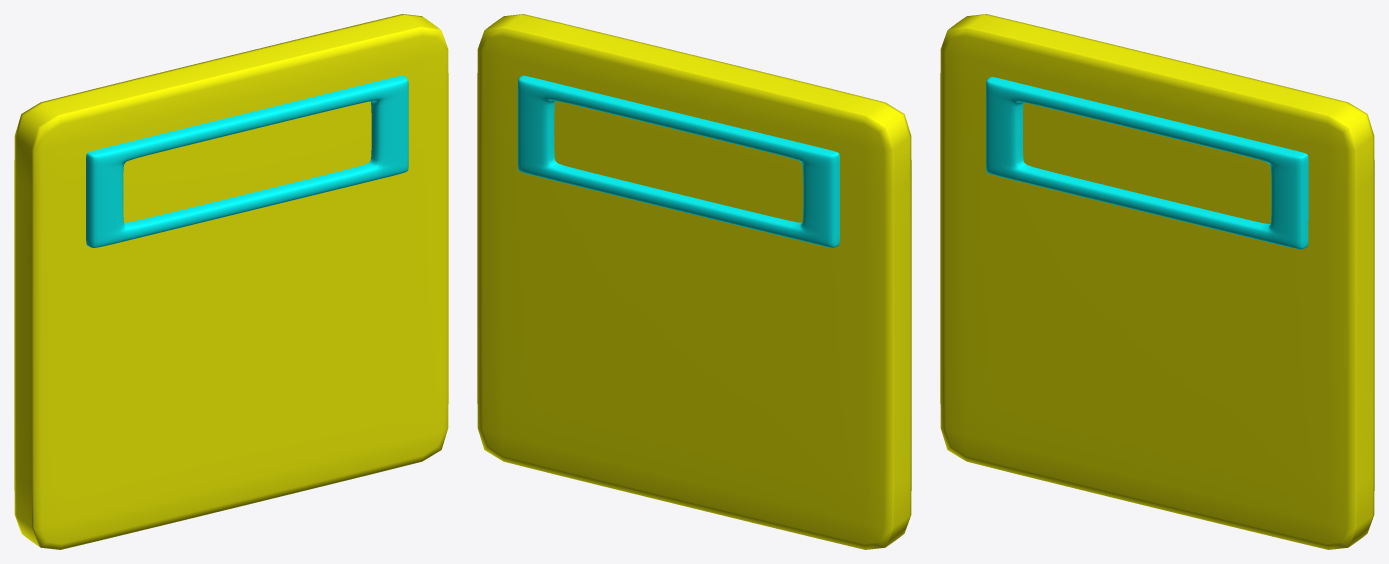
The picture shows the model from 3 angles, left to right: view 1: azimuth 30°, elevation 25°; view 2: azimuth 150°, elevation 25°; view 3: azimuth 330°, elevation 25°; orthographic projection.
Visible parts, largest first — view 1: polySurface1007; view 2: polySurface1007; view 3: polySurface1007.
Boxes of the visible parts, bbox=[...] form: polySurface1007: bbox=[14, 14, 448, 549]; polySurface1007: bbox=[477, 14, 911, 549]; polySurface1007: bbox=[940, 14, 1374, 549].
Bounding box in the file's own units: 0.9994 × 0.9994 × 0.1498.
